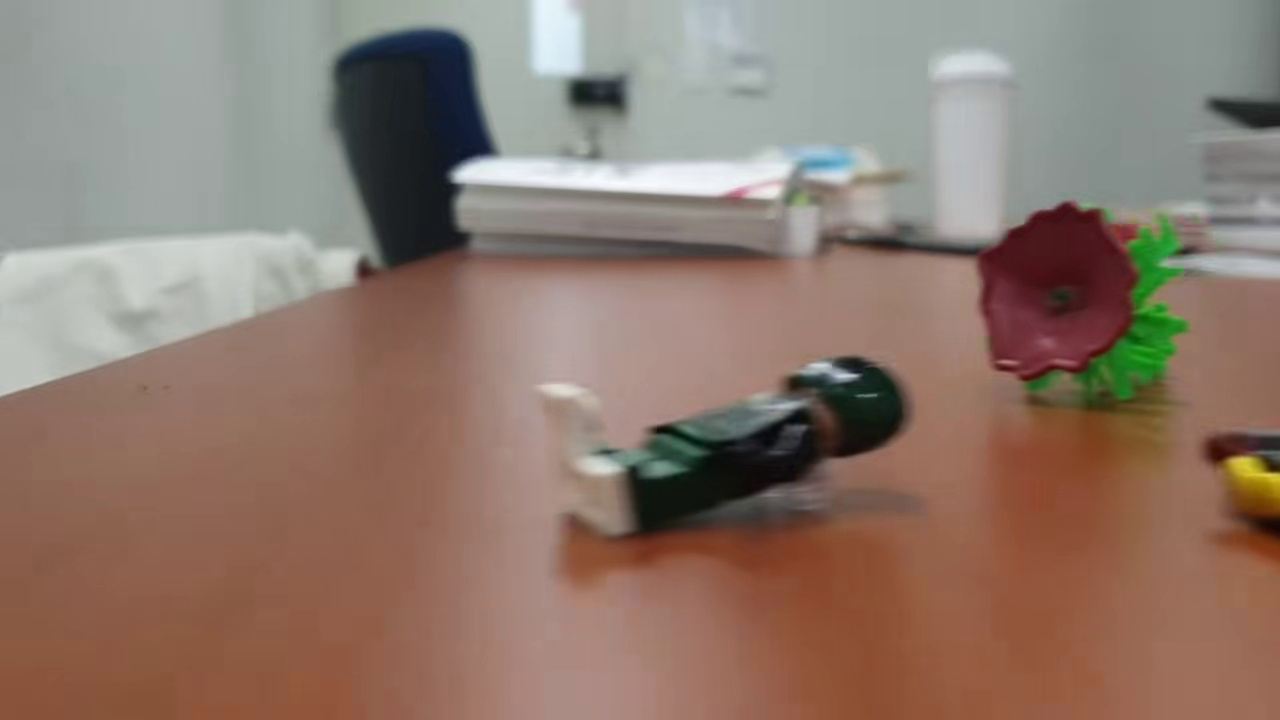people: (532, 349, 910, 548), (1194, 424, 1280, 538)
tree: (977, 198, 1184, 411)
